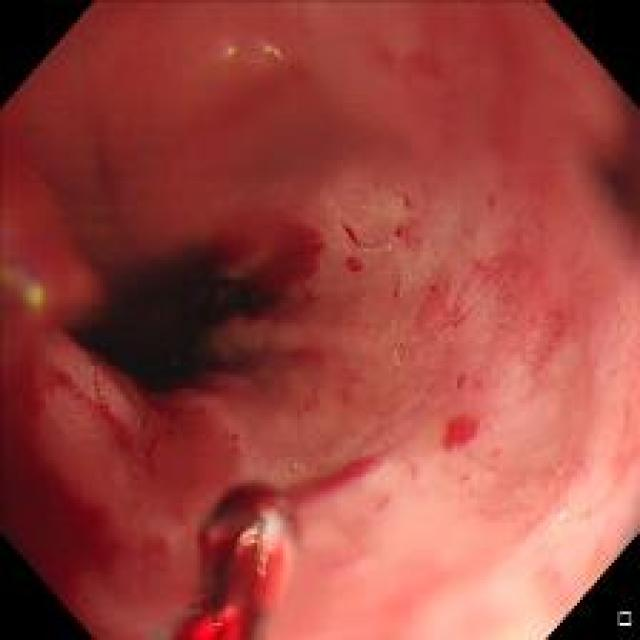blood: (119, 411, 338, 638)
blur: (59, 5, 614, 241)
bubbles: (546, 494, 575, 525), (284, 455, 312, 475)
color misalignment: (210, 28, 288, 70), (1, 260, 49, 321)
contrast: (51, 220, 298, 416)
instrument: (159, 476, 298, 639)
